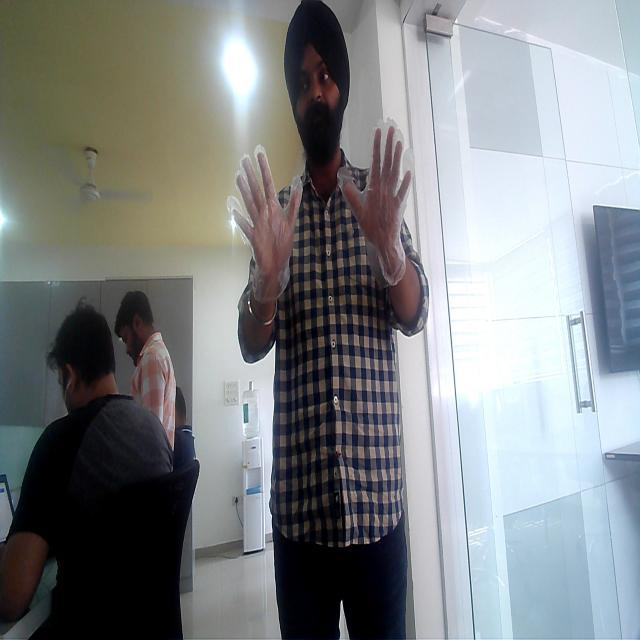with_gloves: (334, 117, 443, 283), (225, 136, 303, 321)
